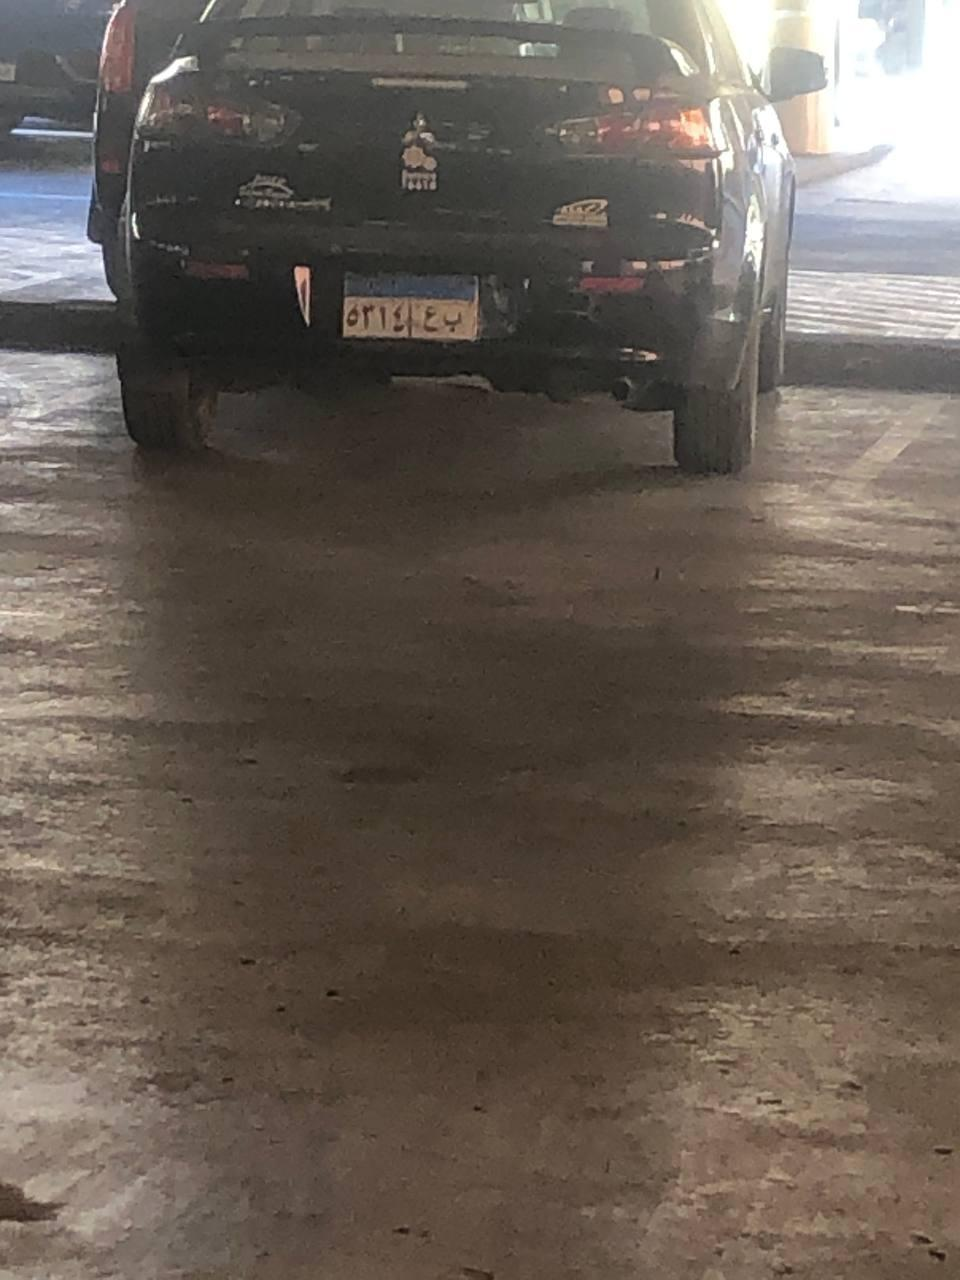License Plate: (330, 258, 494, 354)
